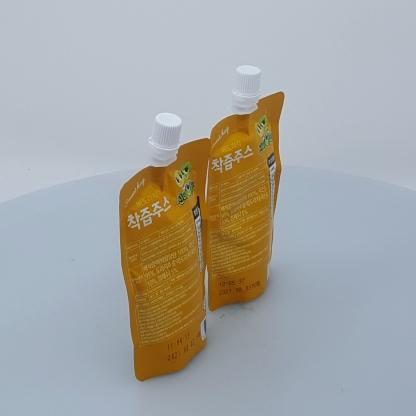-------------------100ML: (119, 112, 212, 381), (205, 65, 285, 312)
